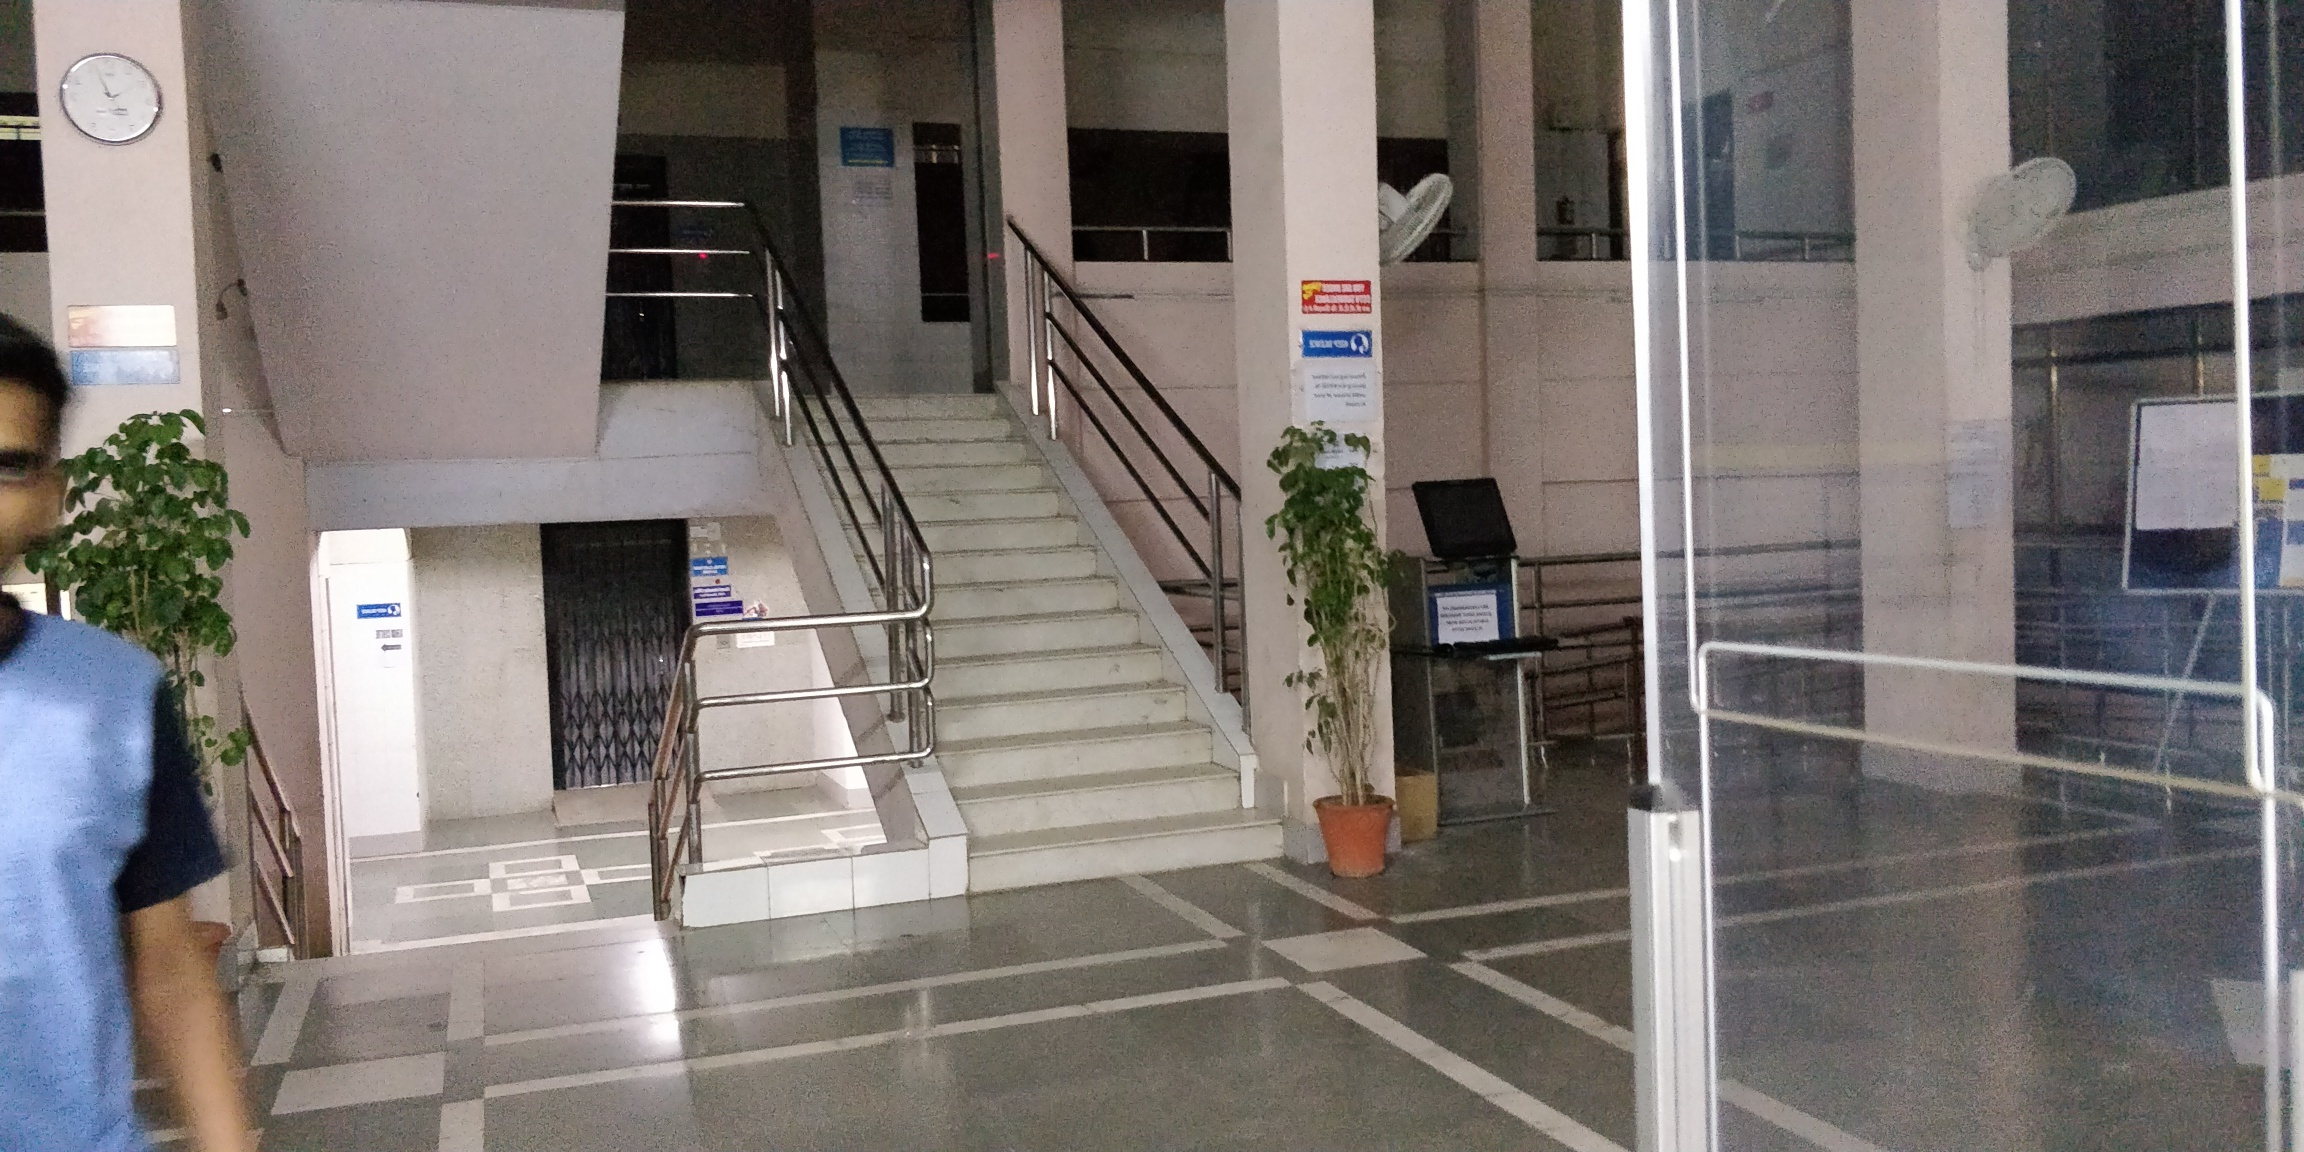stairs_up: (813, 389, 1290, 904)
